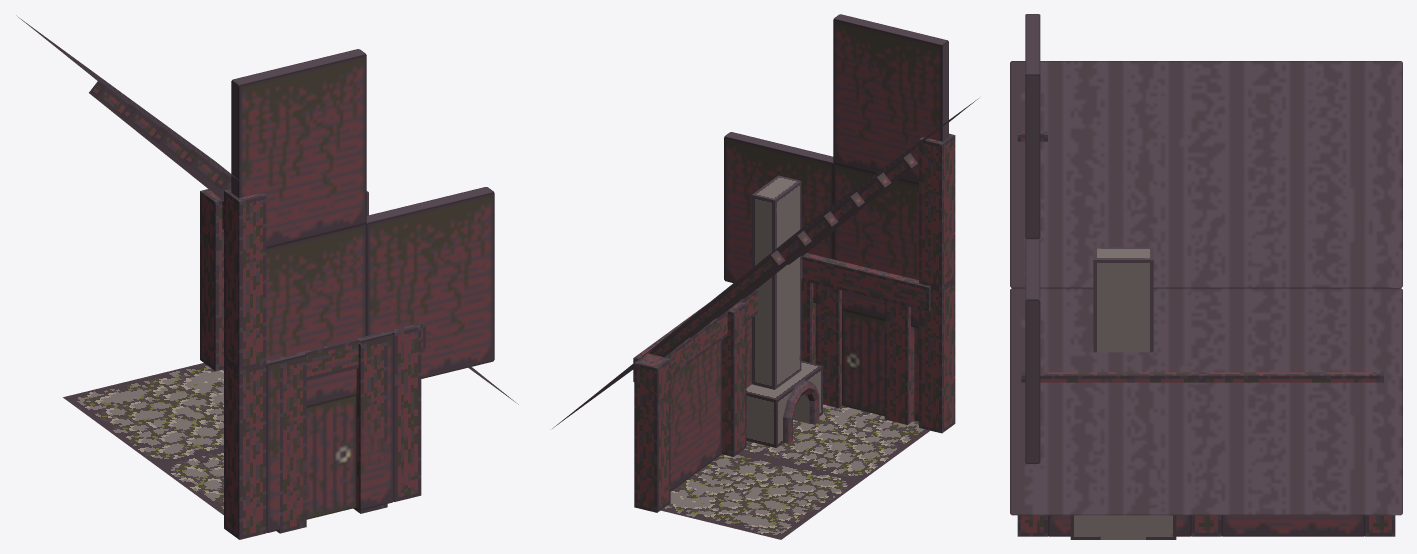
The model's file is MainMenuHouse.fbx.
The picture shows the model from 3 angles, left to right: view 1: azimuth 30°, elevation 25°; view 2: azimuth 150°, elevation 25°; view 3: azimuth 270°, elevation 25°; orthographic projection. The views are drawn at different scales.
Parts seen in each view (by area): view 1: RockWall_4, RockWall_3, RockWall_2, HouseFloor_1, RockWallEnt, WoodPillar_7, WoodPillar_2, Door, WoodPillar, WoodPillar_5, WoodPillar_4, WoodPillar_3 (+7 smaller); view 2: RockWall_4, HouseFloor_1, Chimney, RockWall_3, RockWall_2, HouseFloor, RockWall_1, WoodPillar_3, WoodPillar_7, WoodPillar_2, Door, WoodPillar_6 (+14 smaller); view 3: Roof, Chimney, RockWall_4, RockWall_3, RockWall_1, FirePlace, WoodBeam, WoodBeam_1, RockWall, WoodPillar, WoodPillar_1, WoodPillar_3.
Part boxes in pixels (<box>): RockWall_4: <box>231,49,366,247</box>; RockWall_3: <box>366,187,494,378</box>; RockWall_2: <box>266,223,366,406</box>; HouseFloor_1: <box>63,363,223,465</box>; RockWallEnt: <box>266,331,394,532</box>; WoodPillar_7: <box>224,189,266,370</box>; WoodPillar_2: <box>224,360,266,539</box>; Door: <box>306,395,356,519</box>; WoodPillar: <box>392,324,421,501</box>; WoodPillar_5: <box>276,358,306,533</box>; WoodPillar_4: <box>353,338,387,513</box>; WoodPillar_3: <box>200,189,223,371</box>; RockWall_4: <box>833,14,948,183</box>; HouseFloor_1: <box>661,452,860,539</box>; Chimney: <box>752,175,801,389</box>; RockWall_3: <box>724,132,833,302</box>; RockWall_2: <box>833,163,918,328</box>; HouseFloor: <box>740,404,929,481</box>; RockWall_1: <box>670,340,721,491</box>; WoodPillar_3: <box>634,354,670,512</box>; WoodPillar_7: <box>919,133,955,288</box>; WoodPillar_2: <box>919,280,955,433</box>; Door: <box>842,310,884,415</box>; WoodPillar_6: <box>802,253,930,311</box>; Roof: <box>1010,61,1402,515</box>; Chimney: <box>1093,247,1153,352</box>; RockWall_4: <box>1025,14,1040,238</box>; RockWall_3: <box>1025,239,1040,463</box>; RockWall_1: <box>1221,515,1364,536</box>; FirePlace: <box>1070,515,1176,539</box>; WoodBeam: <box>1202,372,1383,382</box>; WoodBeam_1: <box>1021,372,1202,382</box>; RockWall: <box>1048,515,1191,536</box>; WoodPillar: <box>1017,515,1047,536</box>; WoodPillar_1: <box>1191,515,1221,536</box>; WoodPillar_3: <box>1365,515,1395,536</box>.
Size of the model in its own units: 566 by 810 by 650.
9 materials, 9 textured.
